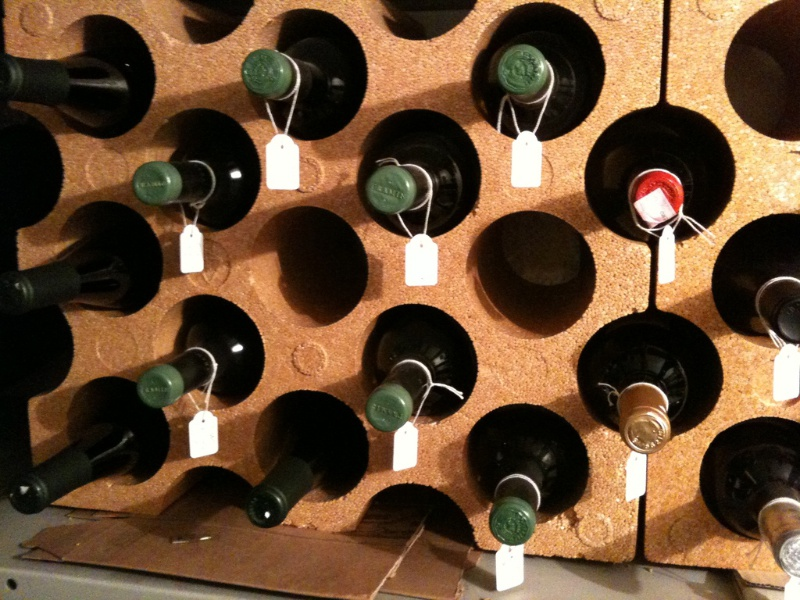wine: (2, 4, 800, 581)
